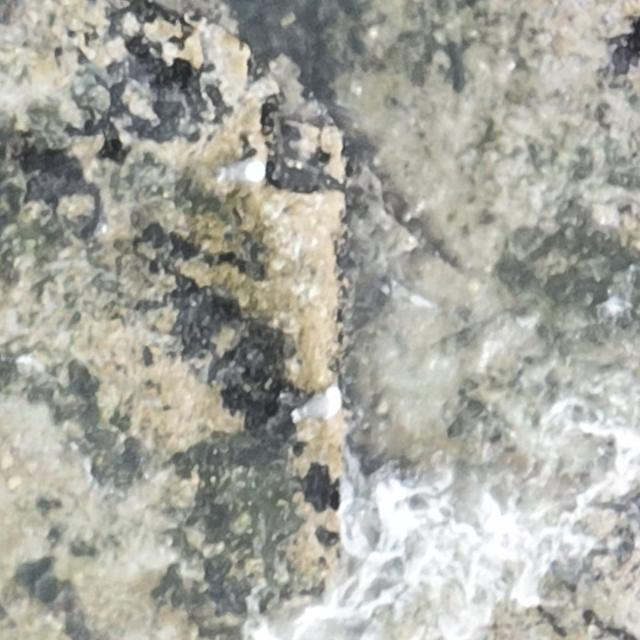umineko: (292, 387, 341, 422), (210, 163, 264, 183)
